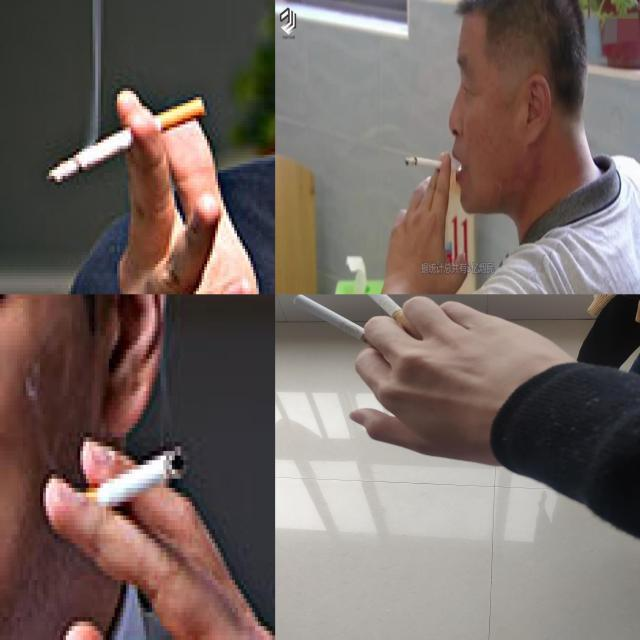smoking: (45, 96, 206, 185), (66, 444, 190, 516), (294, 294, 389, 356), (348, 294, 422, 340), (405, 157, 452, 171)
